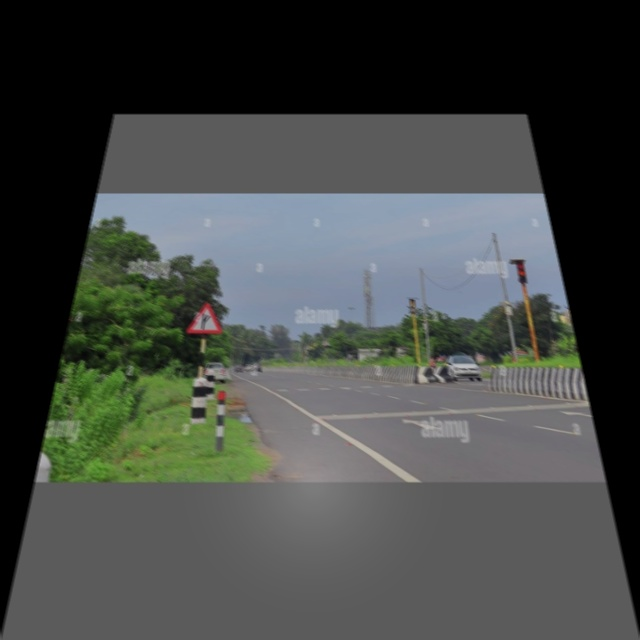Y_Intersection: (182, 301, 226, 339)
